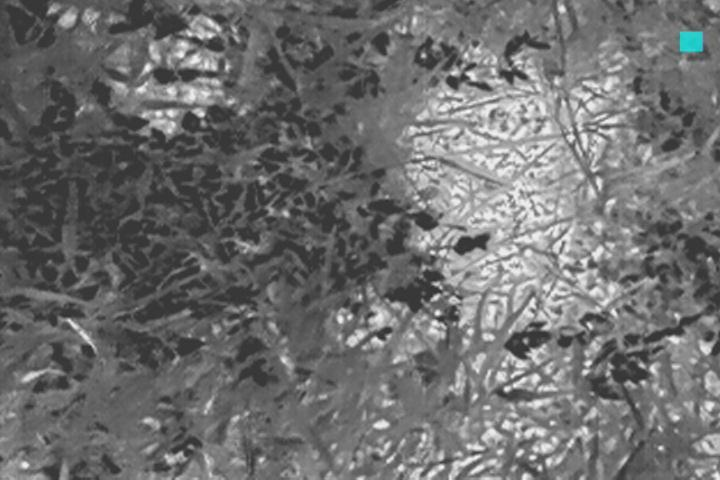landmine: (375, 118, 599, 333)
